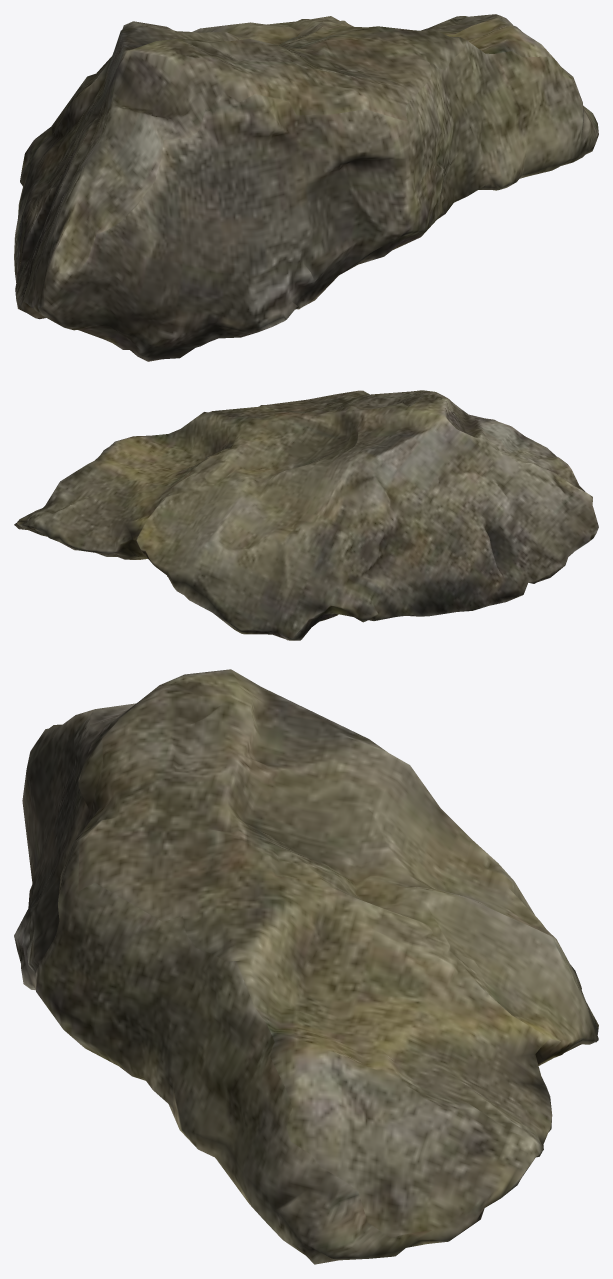
Rendered from rock9.glb.
The picture shows the model from 3 angles, top to bottom: view 1: azimuth 30°, elevation 25°; view 2: azimuth 150°, elevation 25°; view 3: azimuth 270°, elevation 25°; orthographic projection. The views are drawn at different scales.
Visible parts, largest first — view 1: rock_moss_set_02_rock09; view 2: rock_moss_set_02_rock09; view 3: rock_moss_set_02_rock09.
Part boxes in pixels (x1,y1,x2,y2): rock_moss_set_02_rock09: (14,14,598,361); rock_moss_set_02_rock09: (14,390,598,640); rock_moss_set_02_rock09: (14,669,598,1264).
Size of the model in its own units: 1.6 by 0.5986 by 0.9935.
1 material, 1 textured.
